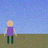person: (4, 20, 16, 43)
